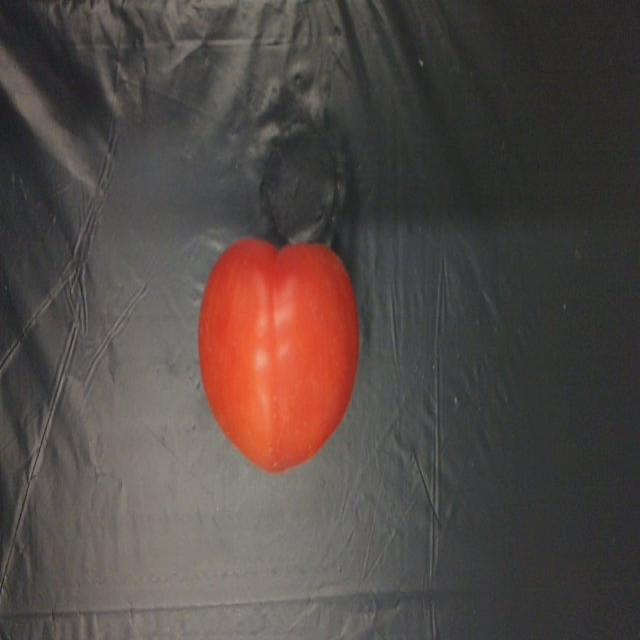kirmizi: (195, 227, 362, 478)
